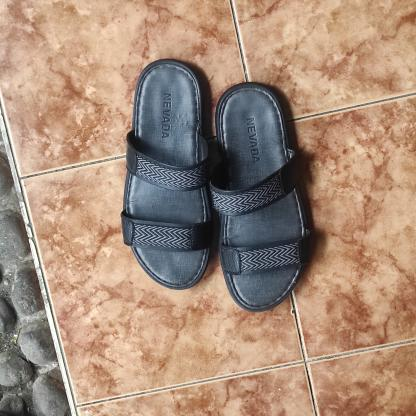Black Slide B: (210, 56, 312, 315), (120, 58, 211, 289)
